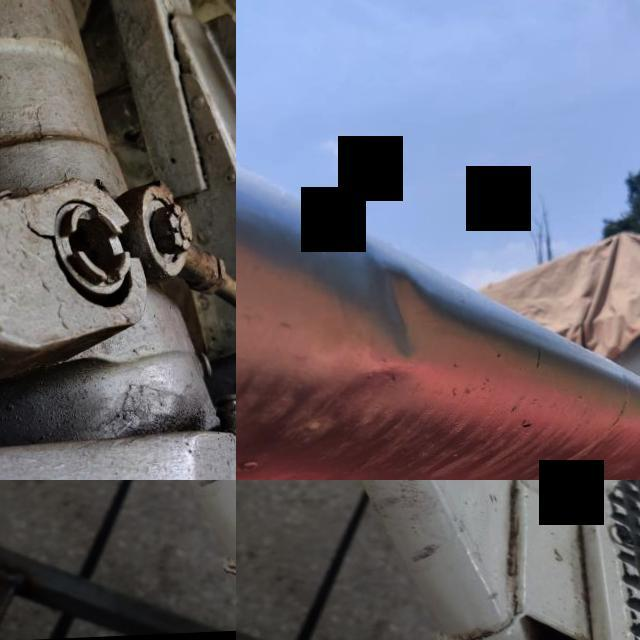Crack: (12, 208, 56, 250)
Dent: (334, 232, 460, 388)
